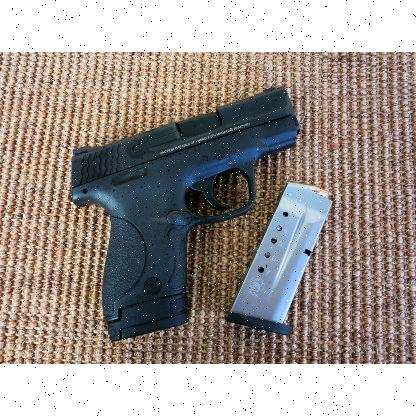gun: (69, 85, 300, 341)
